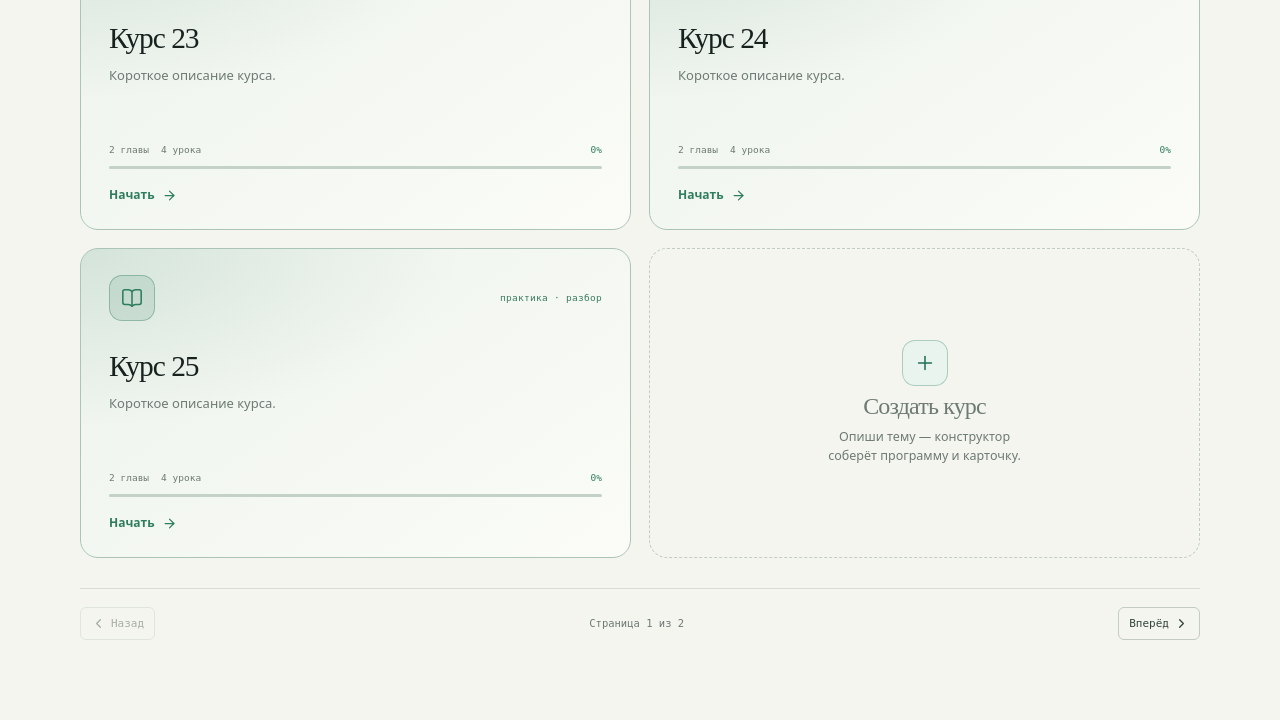
Test: CoursesHome › paginates twenty-five cards per page
This screenshot has width=1280, height=720.
(page scrolled)
Expected: the text "Страница 1 из 2" is shown, [589, 615, 684, 631]
Click the button "Вперёд" at (1159, 623), box [1118, 607, 1200, 640]
(page scrolled)
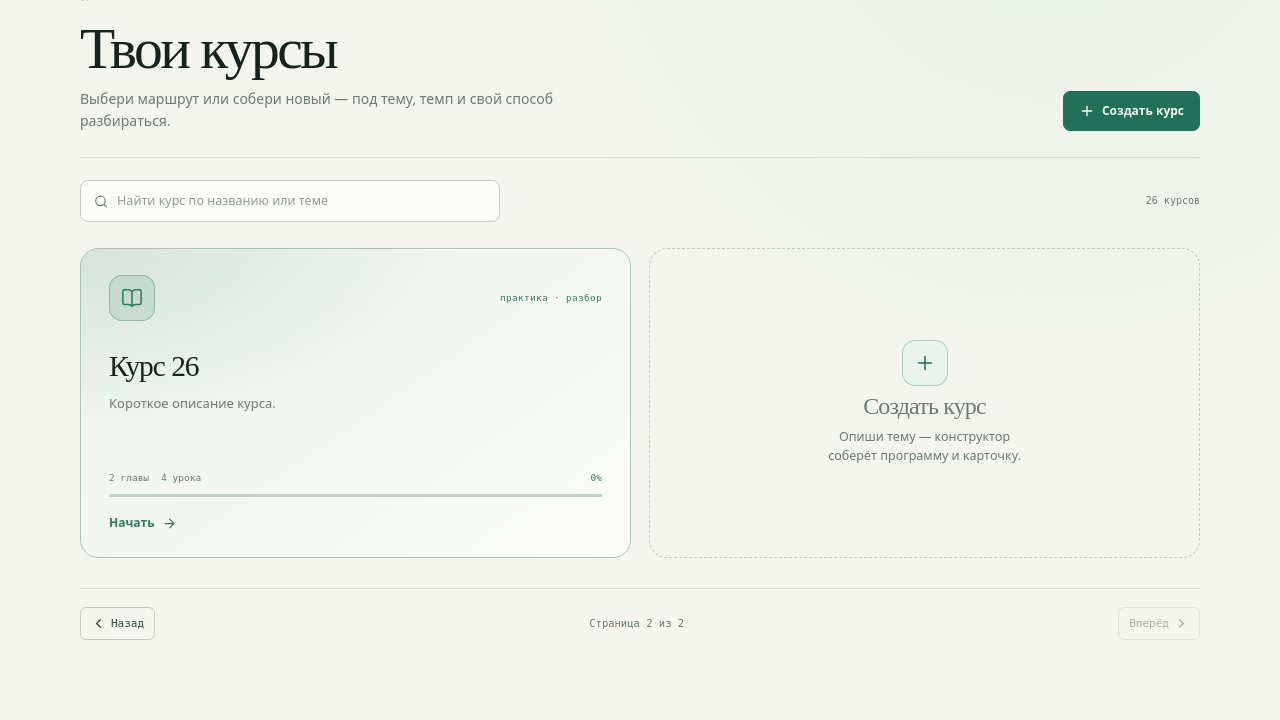
Expected: the text "Страница 2 из 2" is shown, [589, 615, 684, 631]
Expected: the number of headings "Курс 26" is 1, [109, 350, 198, 382]
